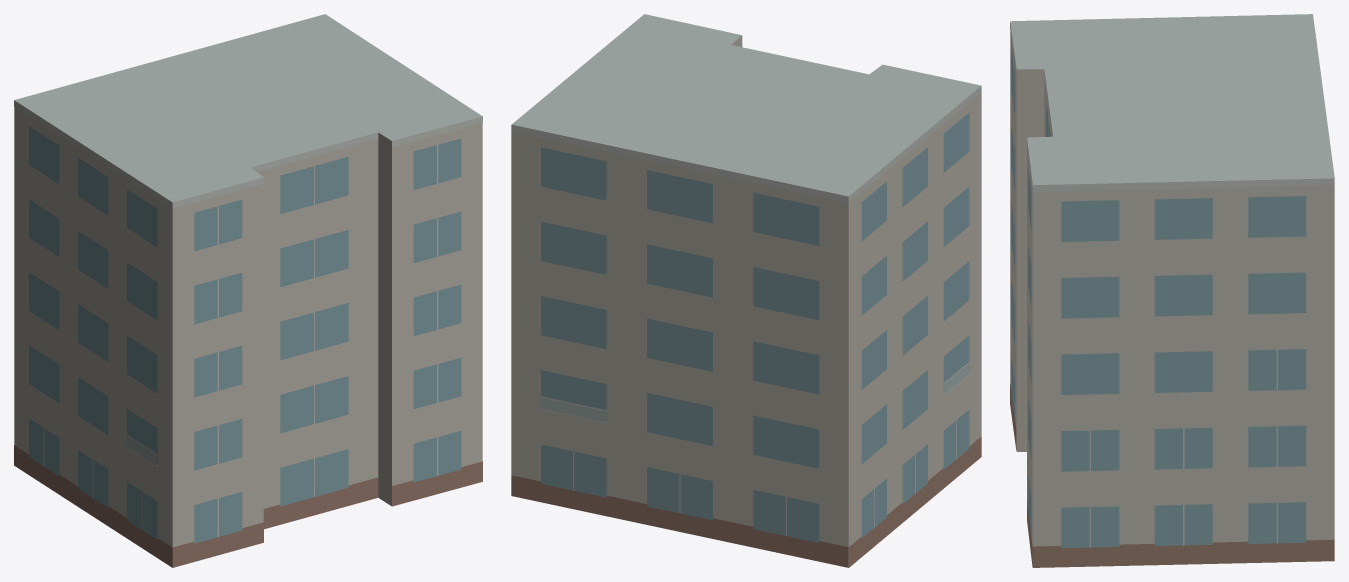
Rendered from survey-upis-32542373.glb.
3 views of the same model, side by side, from view 1: azimuth 30°, elevation 25°; view 2: azimuth 150°, elevation 25°; view 3: azimuth 270°, elevation 25° (orthographic). The views are drawn at different scales.
Visible parts, largest first — view 1: survey-upis-32542373.tmp; view 2: survey-upis-32542373.tmp; view 3: survey-upis-32542373.tmp.
Part boxes in pixels (x1,y1,x2,y2): survey-upis-32542373.tmp: [14, 14, 482, 567]; survey-upis-32542373.tmp: [511, 14, 981, 567]; survey-upis-32542373.tmp: [1010, 14, 1334, 567].
Size of the model in its own units: 13.25 by 13.8 by 10.62.
